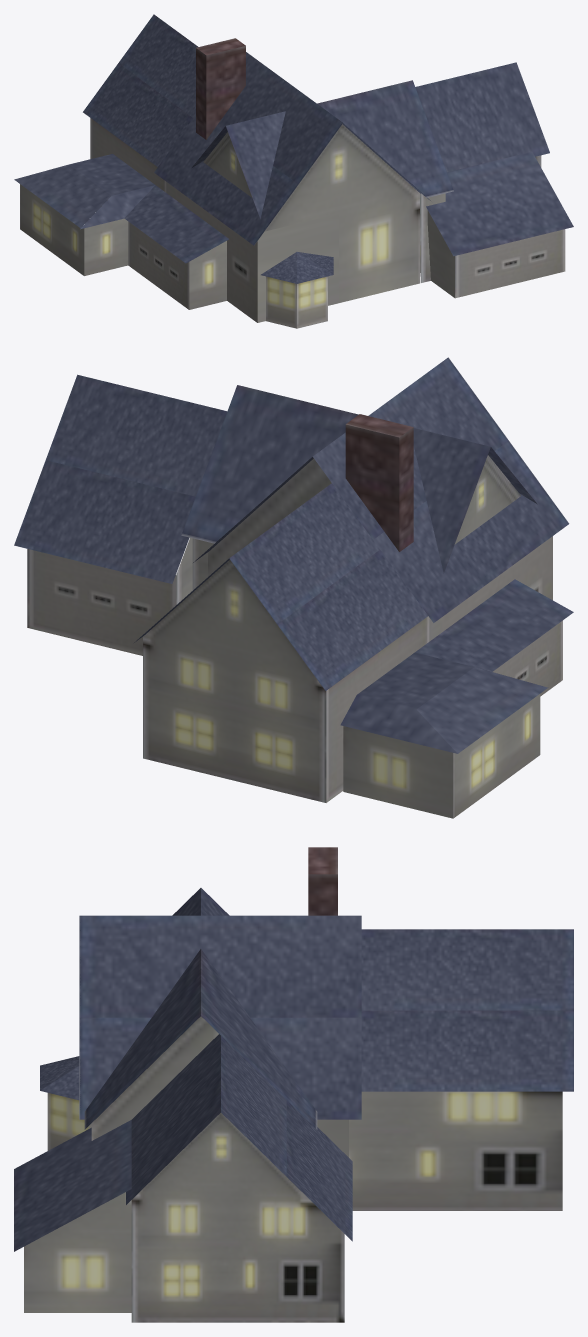
The model's file is villa_blue_night.obj.
3 views of the same model, one above another, from view 1: azimuth 30°, elevation 25°; view 2: azimuth 150°, elevation 25°; view 3: azimuth 270°, elevation 25° (orthographic). The views are drawn at different scales.
Parts seen in each view (by area): view 1: villa_blue; view 2: villa_blue; view 3: villa_blue.
Boxes of the visible parts, x1=… form: villa_blue: x1=14, y1=14, x2=573, y2=328; villa_blue: x1=14, y1=357, x2=573, y2=818; villa_blue: x1=14, y1=847, x2=573, y2=1322.
Bounding box in the file's own units: 0.5458 × 0.2721 × 0.4784.
1 material, 1 textured.
